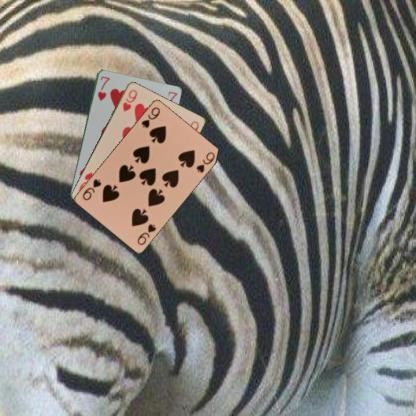7h: (95, 73, 111, 102)
9h: (120, 86, 138, 112)
9s: (138, 104, 162, 129), (135, 221, 157, 246)
